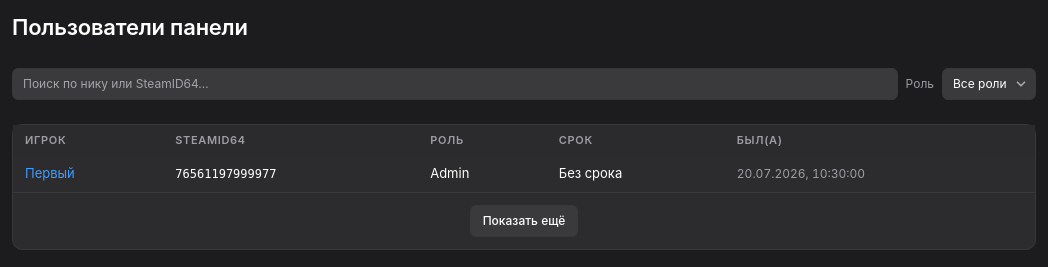
Scenario: UsersBrowser pagination (#357) › loads the next page on demand and hides the button on the last page
Expected: the link "Первый" is shown, left=25, top=164, right=75, bottom=183
Expected: the text "Второй" is not shown
Click the button "Показать ещё".
click(524, 221)  # box left=470, top=205, right=578, bottom=237
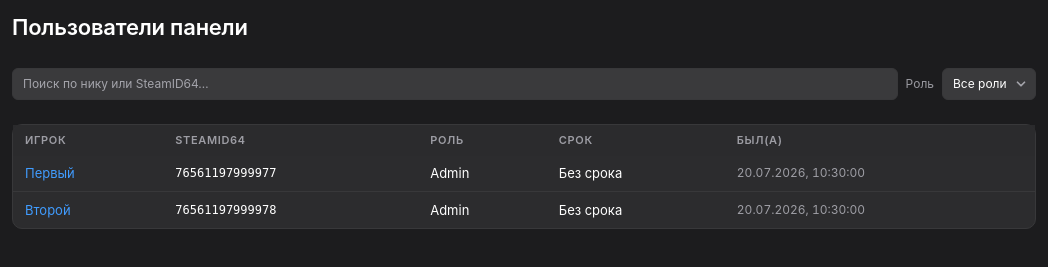
Expected: the link "Первый" is shown, left=25, top=164, right=75, bottom=183
Expected: the link "Второй" is shown, left=25, top=201, right=71, bottom=219
Expected: the button "Показать ещё" is gone
